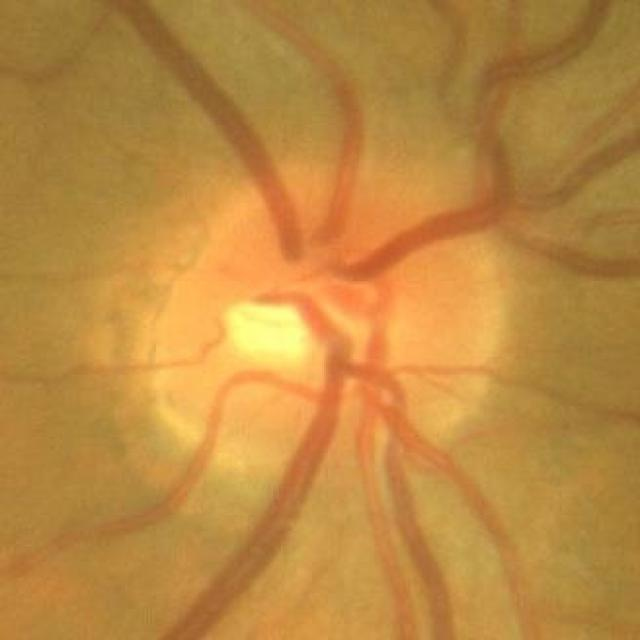OC: (302, 282, 405, 381)
OD: (146, 161, 508, 476)
